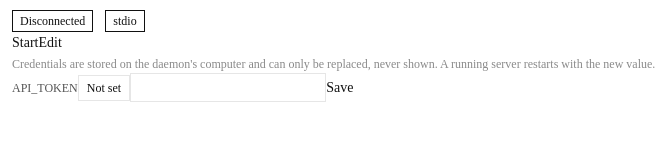
McpServerControls › while a start is pending the row says Connecting and Stop can cancel it
Click the button "Start" at point(25, 42), box [12,32,38,53]
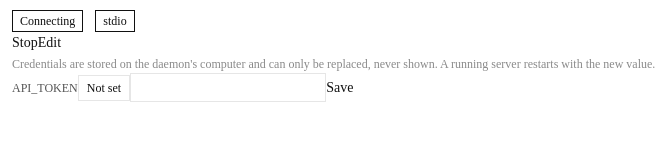
Check: the text "Connecting" is shown, box [12,10,83,32]
Click the button "Stop" at point(25, 42), box [12,32,38,53]
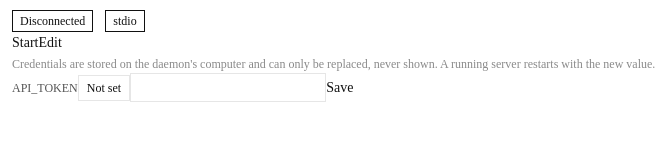
Check: the button "Start" is shown, box [12,32,38,53]
